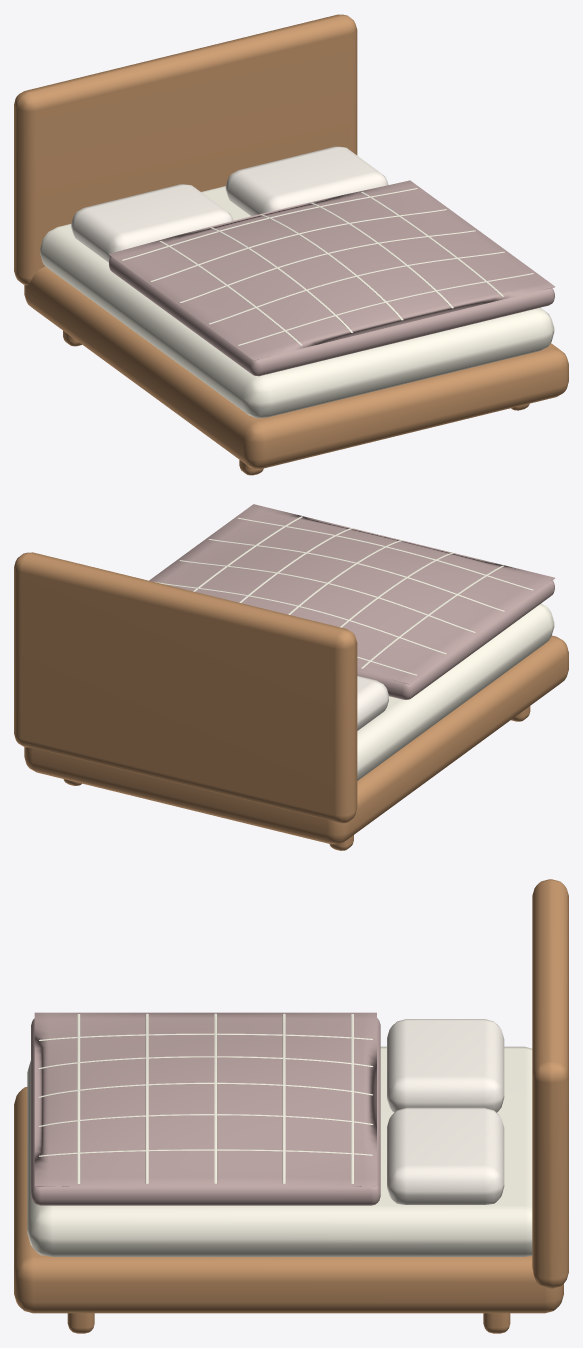
The model's file is bed-houseF.glb.
3 views of the same model, one above another, from view 1: azimuth 30°, elevation 25°; view 2: azimuth 150°, elevation 25°; view 3: azimuth 270°, elevation 25° (orthographic). The views are drawn at different scales.
Parts seen in each view (by area): view 1: Headboard, Soft quilt cloth, Bed frame, Mattress, Quilt padded hem, Pillow, Pillow.001; view 2: Headboard, Soft quilt cloth, Bed frame, Mattress, Quilt padded hem, Pillow, Quilt stitching.007, Quilt stitching.006, Quilt stitching.005, Quilt stitching.008; view 3: Soft quilt cloth, Mattress, Bed frame, Headboard, Pillow.001, Pillow, Quilt padded hem, Quilt stitching.007, Quilt stitching.008, Quilt stitching.006, Quilt stitching.005, Quilt stitching.003 (+4 smaller).
Boxes of the visible parts, x1,y1,x2,y2 form: Headboard: (14,14,357,285); Soft quilt cloth: (109,180,555,360); Bed frame: (24,266,568,468); Mattress: (40,186,554,418); Quilt padded hem: (109,256,554,376); Pillow: (71,184,233,262); Pillow.001: (225,146,388,216); Headboard: (14,552,357,823); Soft quilt cloth: (149,504,554,684); Bed frame: (24,635,568,844); Mattress: (357,603,554,780); Quilt padded hem: (357,580,554,699); Pillow: (357,676,388,730); Quilt stitching.007: (179,560,475,632); Quilt stitching.006: (208,539,504,611); Quilt stitching.005: (238,517,533,590); Quilt stitching.008: (155,582,446,654); Soft quilt cloth: (34,1012,376,1187); Mattress: (27,1046,532,1256); Bed frame: (14,1087,563,1313); Headboard: (532,879,568,1288); Pillow.001: (387,1107,504,1204); Pillow: (387,1019,504,1112); Quilt padded hem: (31,1018,380,1205); Quilt stitching.007: (214,1013,217,1183); Quilt stitching.008: (282,1013,285,1183); Quilt stitching.006: (145,1013,148,1183); Quilt stitching.005: (77,1014,80,1183); Quilt stitching.003: (38,1114,373,1126).
Size of the model in its own units: 1.88 by 1.28 by 2.27.
